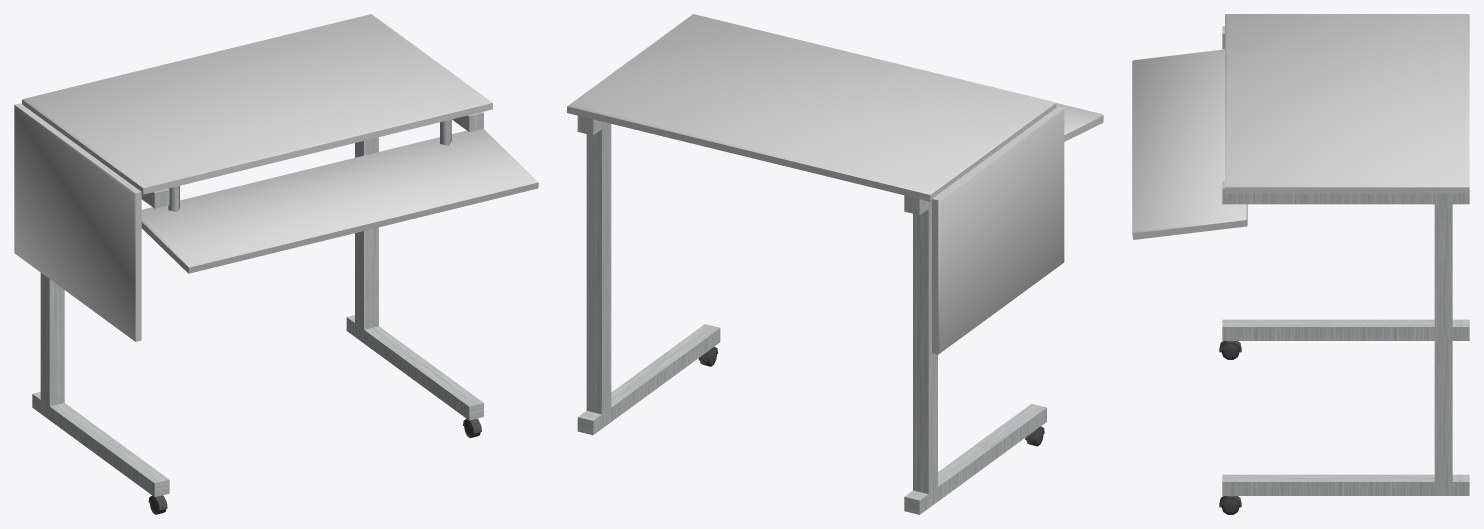
The model's file is Table_Desk.fbx.
3 renders of one model, left to right at view 1: azimuth 30°, elevation 25°; view 2: azimuth 150°, elevation 25°; view 3: azimuth 270°, elevation 25°, orthographic. The views are drawn at different scales.
Parts seen in each view (by area): view 1: Table_Desk; view 2: Table_Desk; view 3: Table_Desk.
Boxes of the visible parts, bbox=[...] form: Table_Desk: bbox=[14, 14, 538, 514]; Table_Desk: bbox=[567, 14, 1103, 514]; Table_Desk: bbox=[1132, 14, 1469, 514].
Bounding box in the file's own units: 103 × 90.88 × 82.7.
